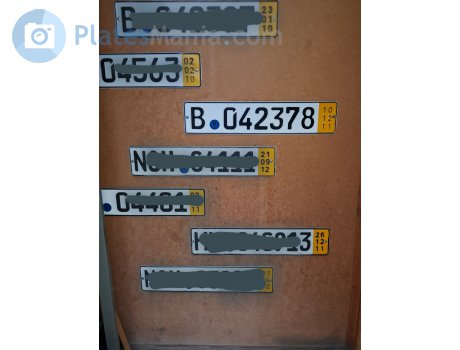License Plates: (183, 102, 313, 131)
